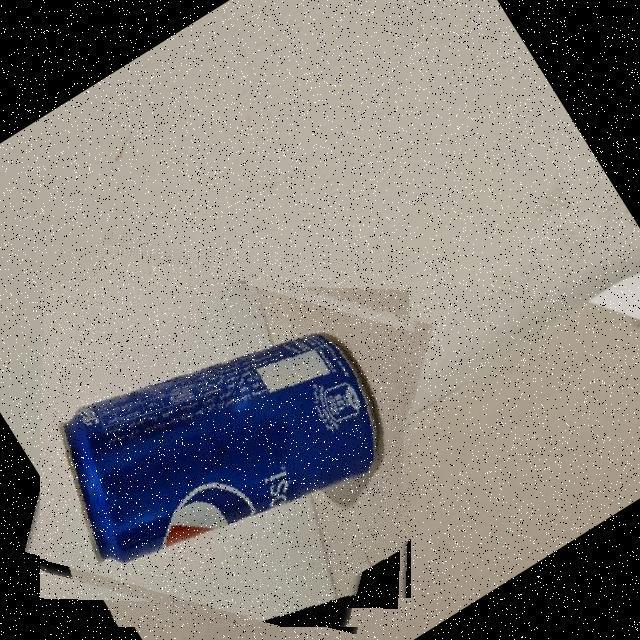recyclable: (41, 249, 418, 627)
